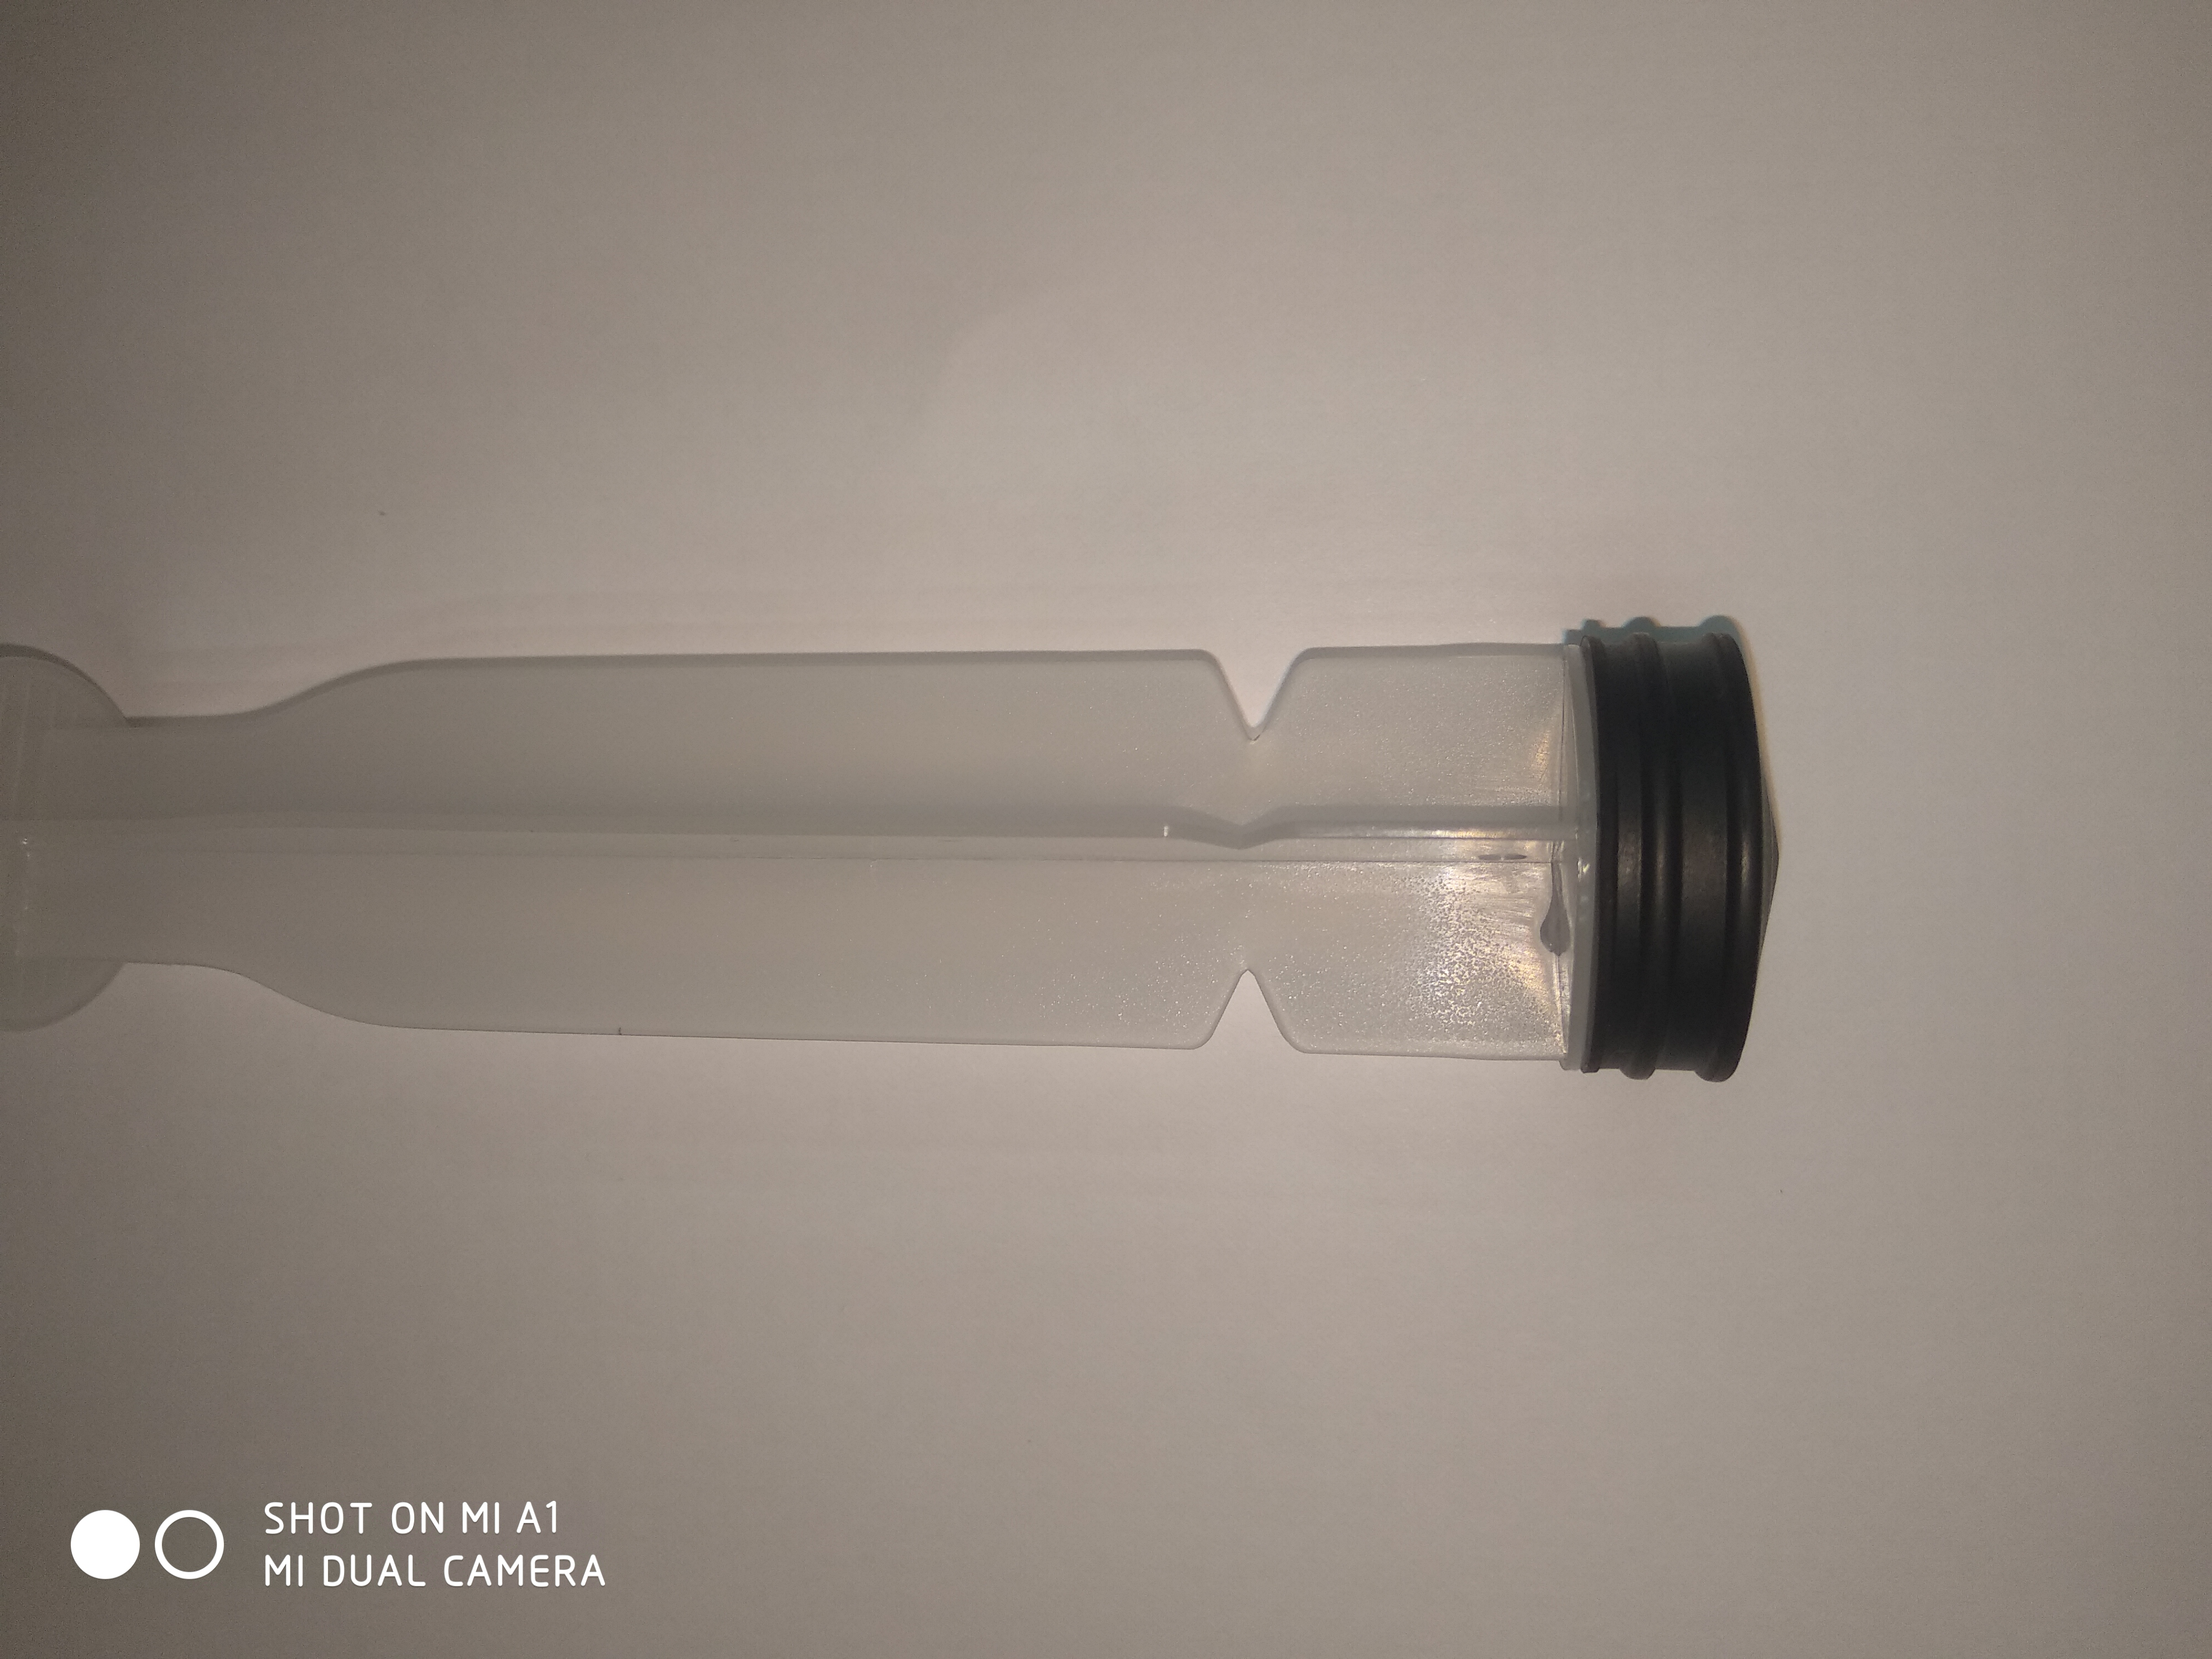plunger: (0, 626, 1789, 1091)
